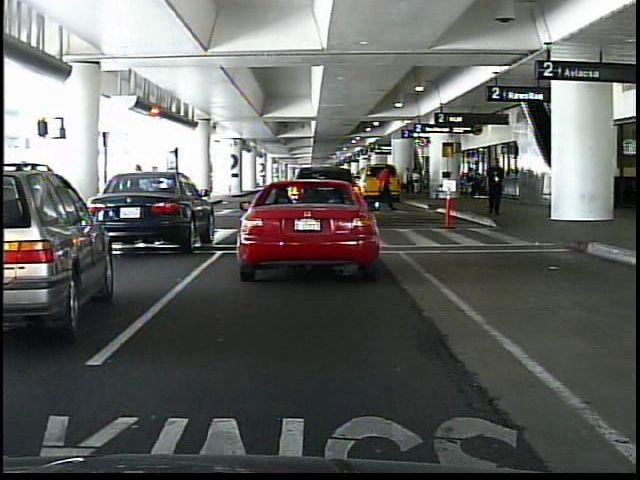person: (124, 161, 152, 234), (487, 157, 507, 219), (374, 162, 392, 218), (404, 163, 417, 199)
